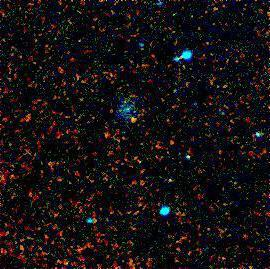star: (121, 105, 151, 135)
